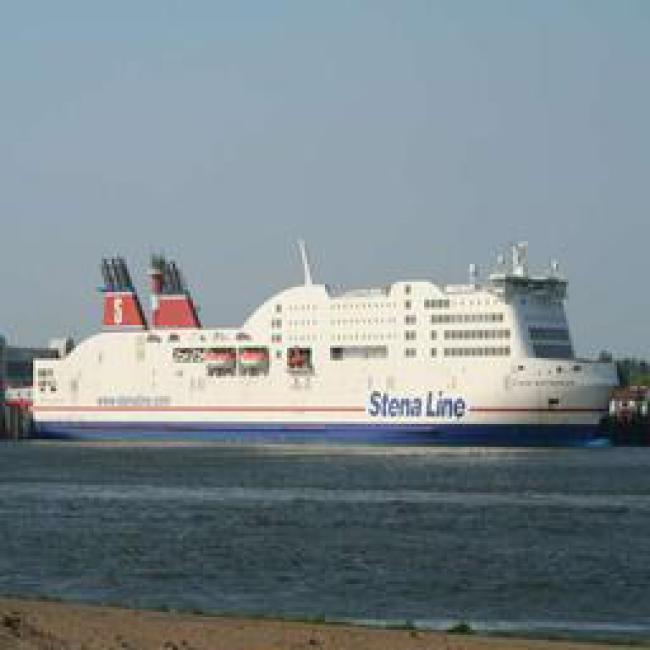Ship: (34, 278, 615, 442)
